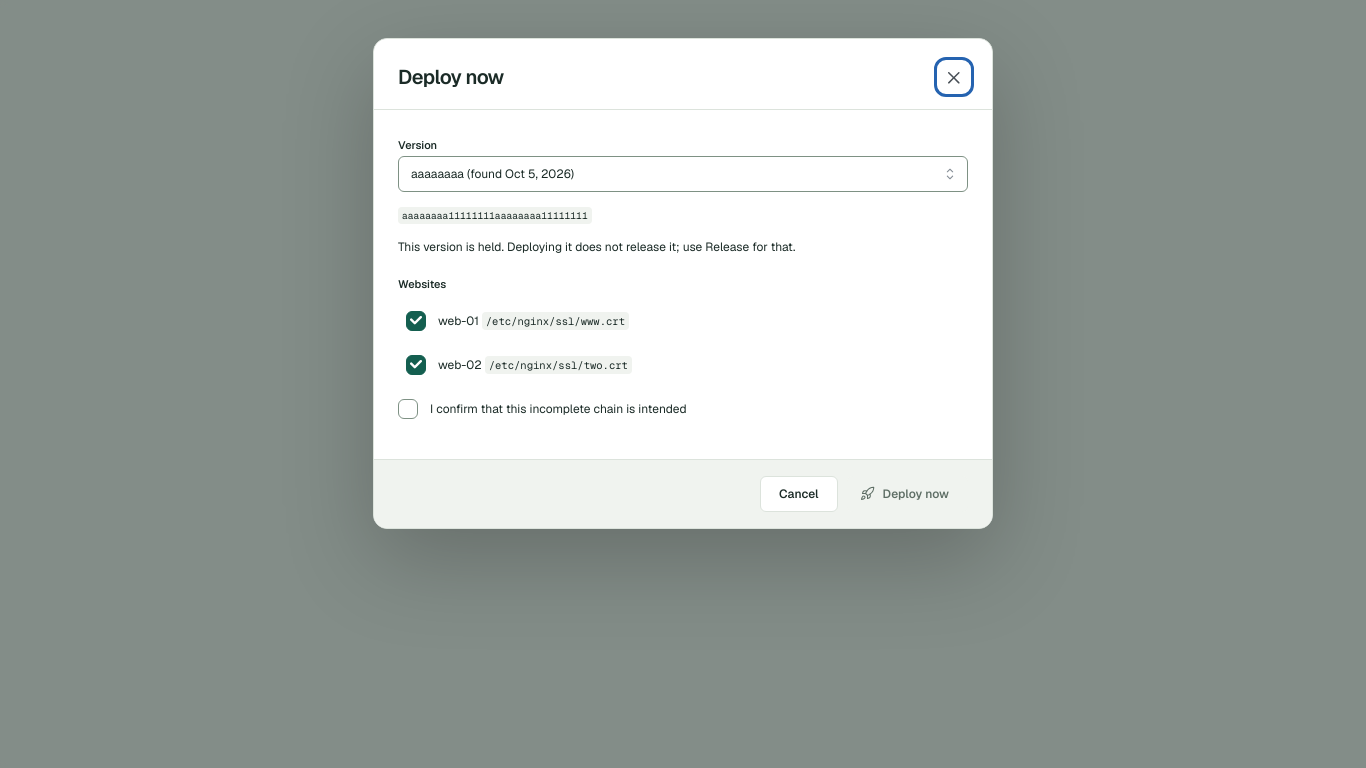
Scenario: KVDeployDialog › offers the incomplete-chain confirmation for a version held for it, to an Administrator only
This screenshot has width=1366, height=768.
Expected: the button "Deploy now" is disabled, [846,476,968,512]
Click the checkbox labelled "I confirm that this incomplete chain is intended". click: x=408, y=408
box: [398,398,418,418]
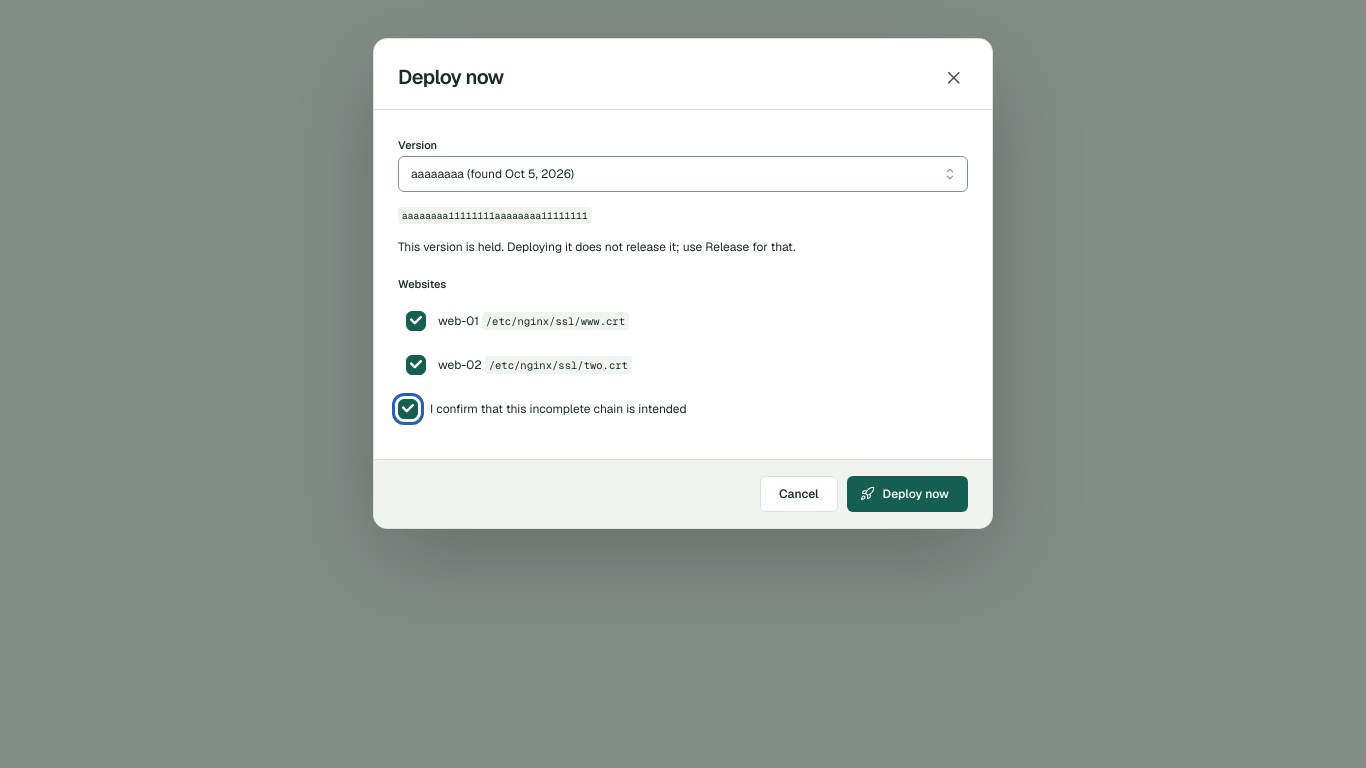
Click the button "Deploy now". click: x=907, y=494
box: [846,476,968,512]
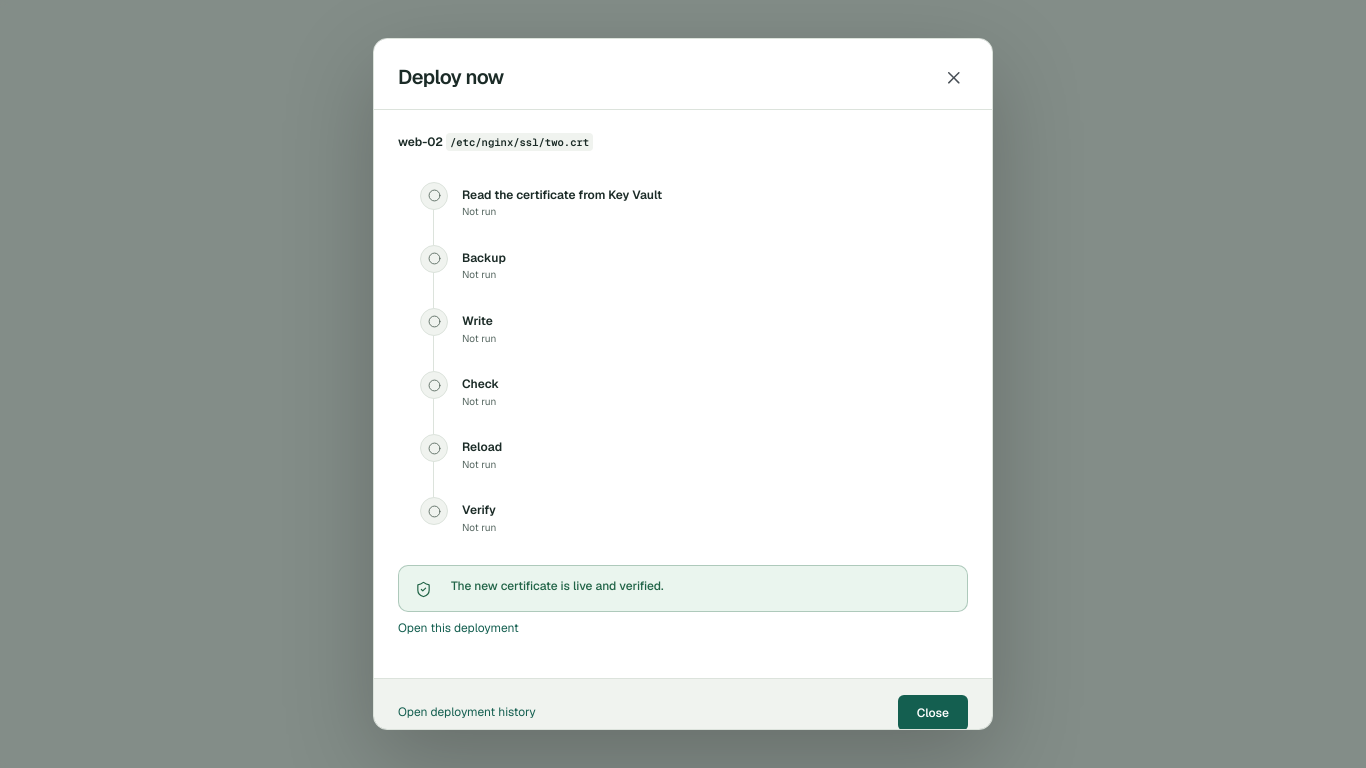
Expected: the element with test id "deployment-run" is shown, [398,134,968,638]
